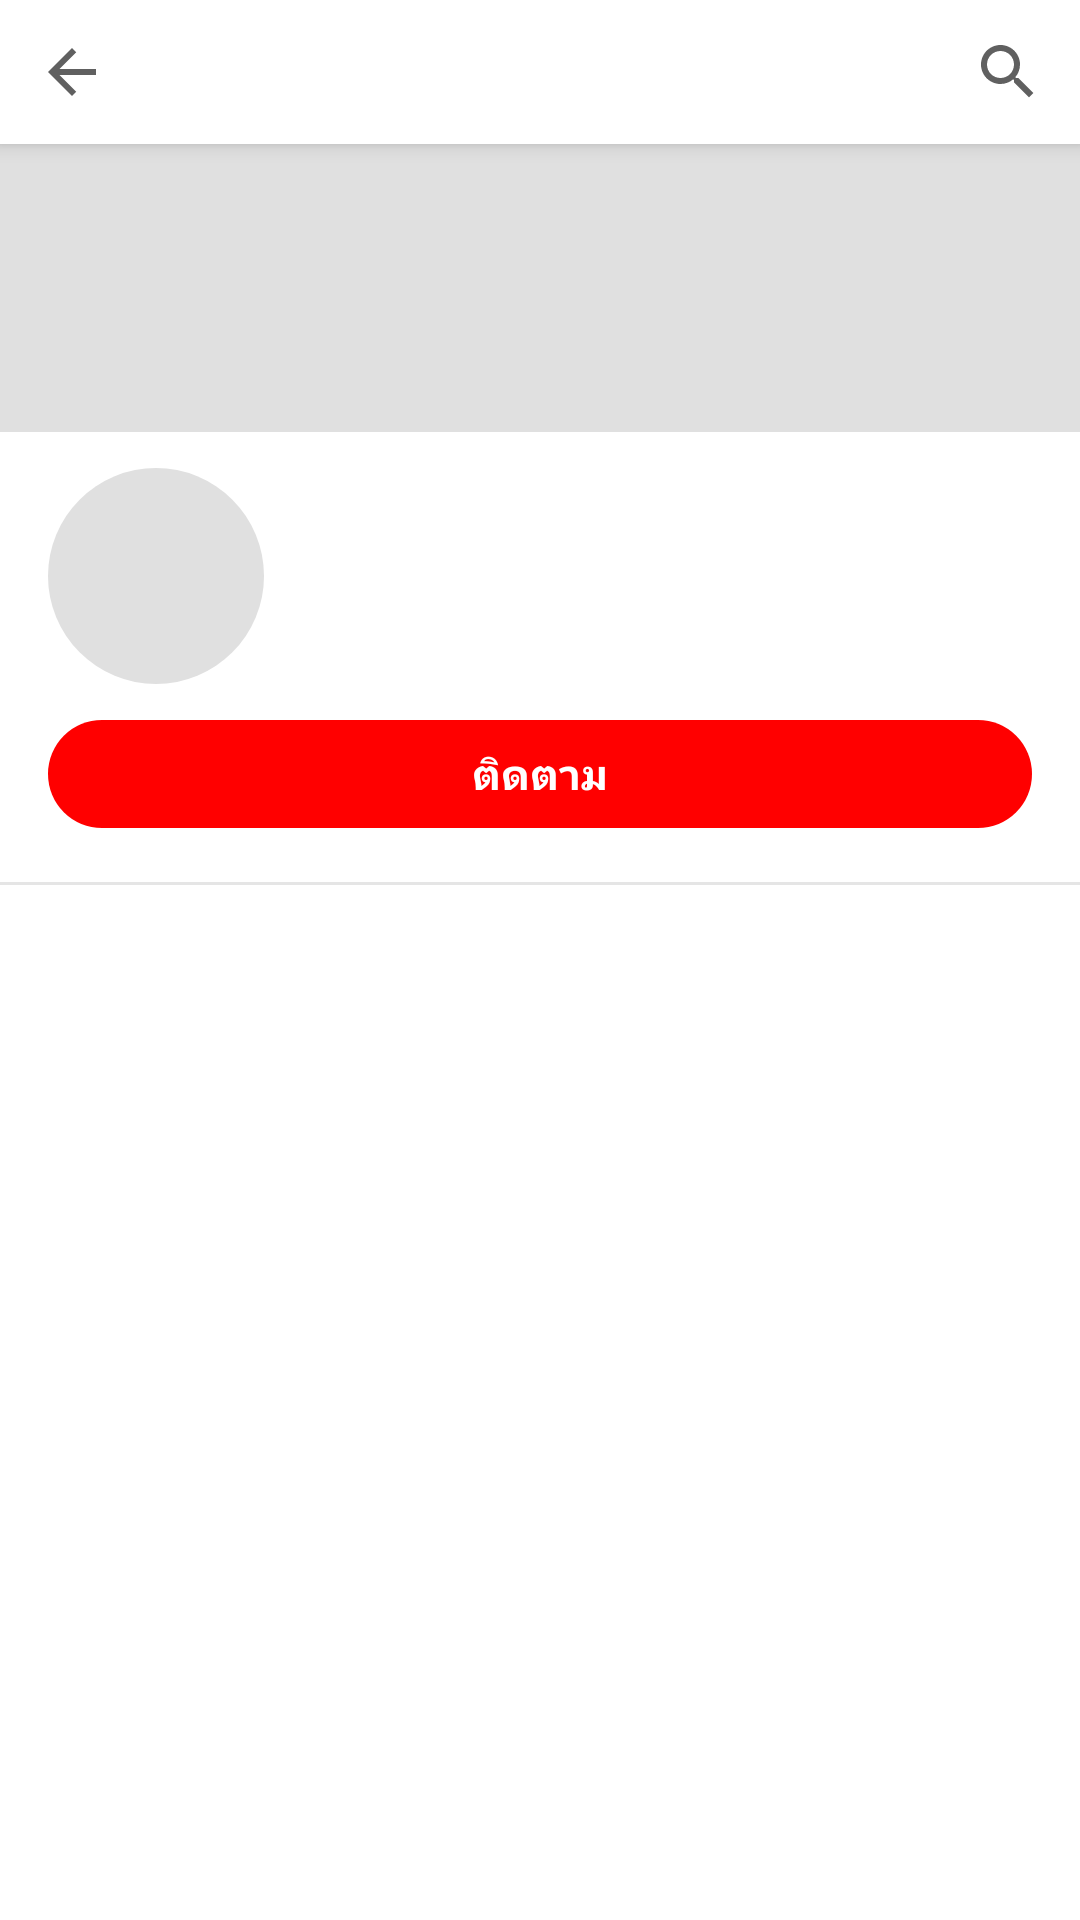

Where icons sit on this 1080x1920 app screen, as (x1, y1, x2, y2):
ค้นหา: (981, 45, 1033, 97)
ย้อนกลับ: (48, 48, 96, 96)
